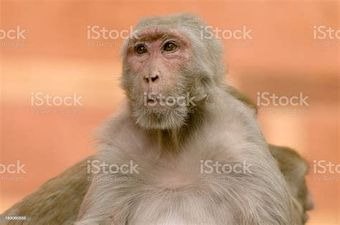monkey: (40, 7, 278, 208)
